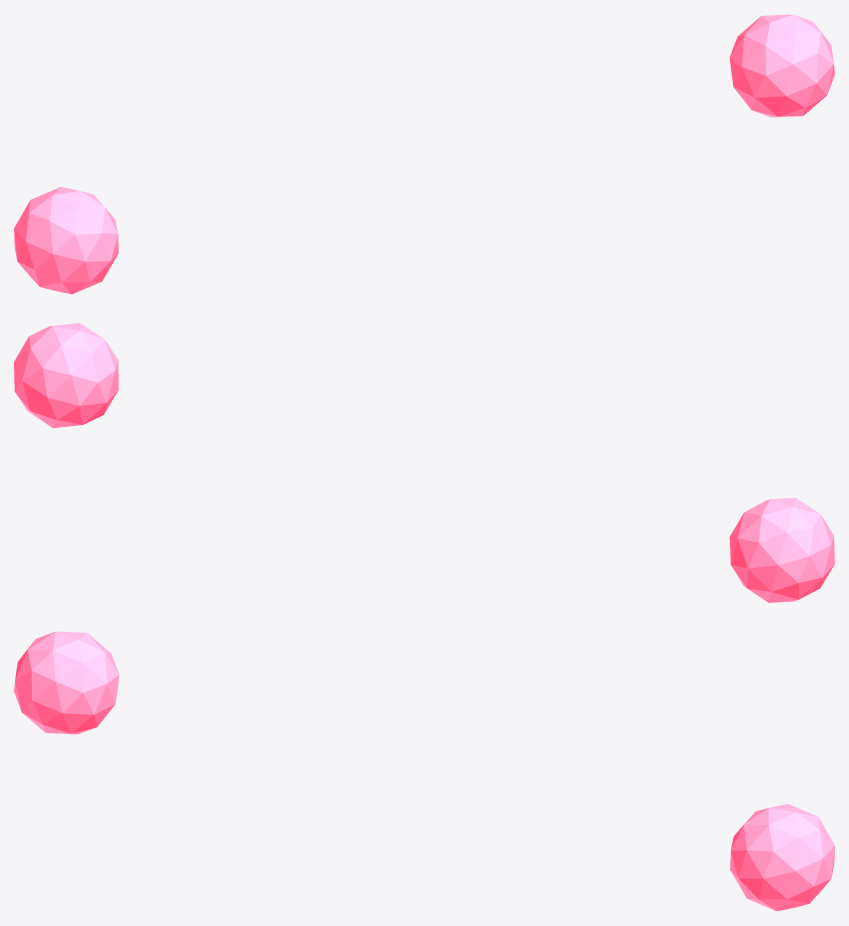
The model's file is Boss gems.fbx.
3 renders of one model, top to bottom at view 1: azimuth 30°, elevation 25°; view 2: azimuth 150°, elevation 25°; view 3: azimuth 330°, elevation 25°, orthographic.
Visible parts, largest first — view 1: safire.001, safire; view 2: safire.001, safire; view 3: safire, safire.001.
Part boxes in pixels (<box>): safire.001: <box>729,14,834,117</box>; safire: <box>14,187,118,294</box>; safire.001: <box>14,323,118,428</box>; safire: <box>729,497,834,602</box>; safire: <box>14,631,119,734</box>; safire.001: <box>730,804,834,911</box>.
Bounding box in the file's own units: 573 × 64.5 × 66.06.
